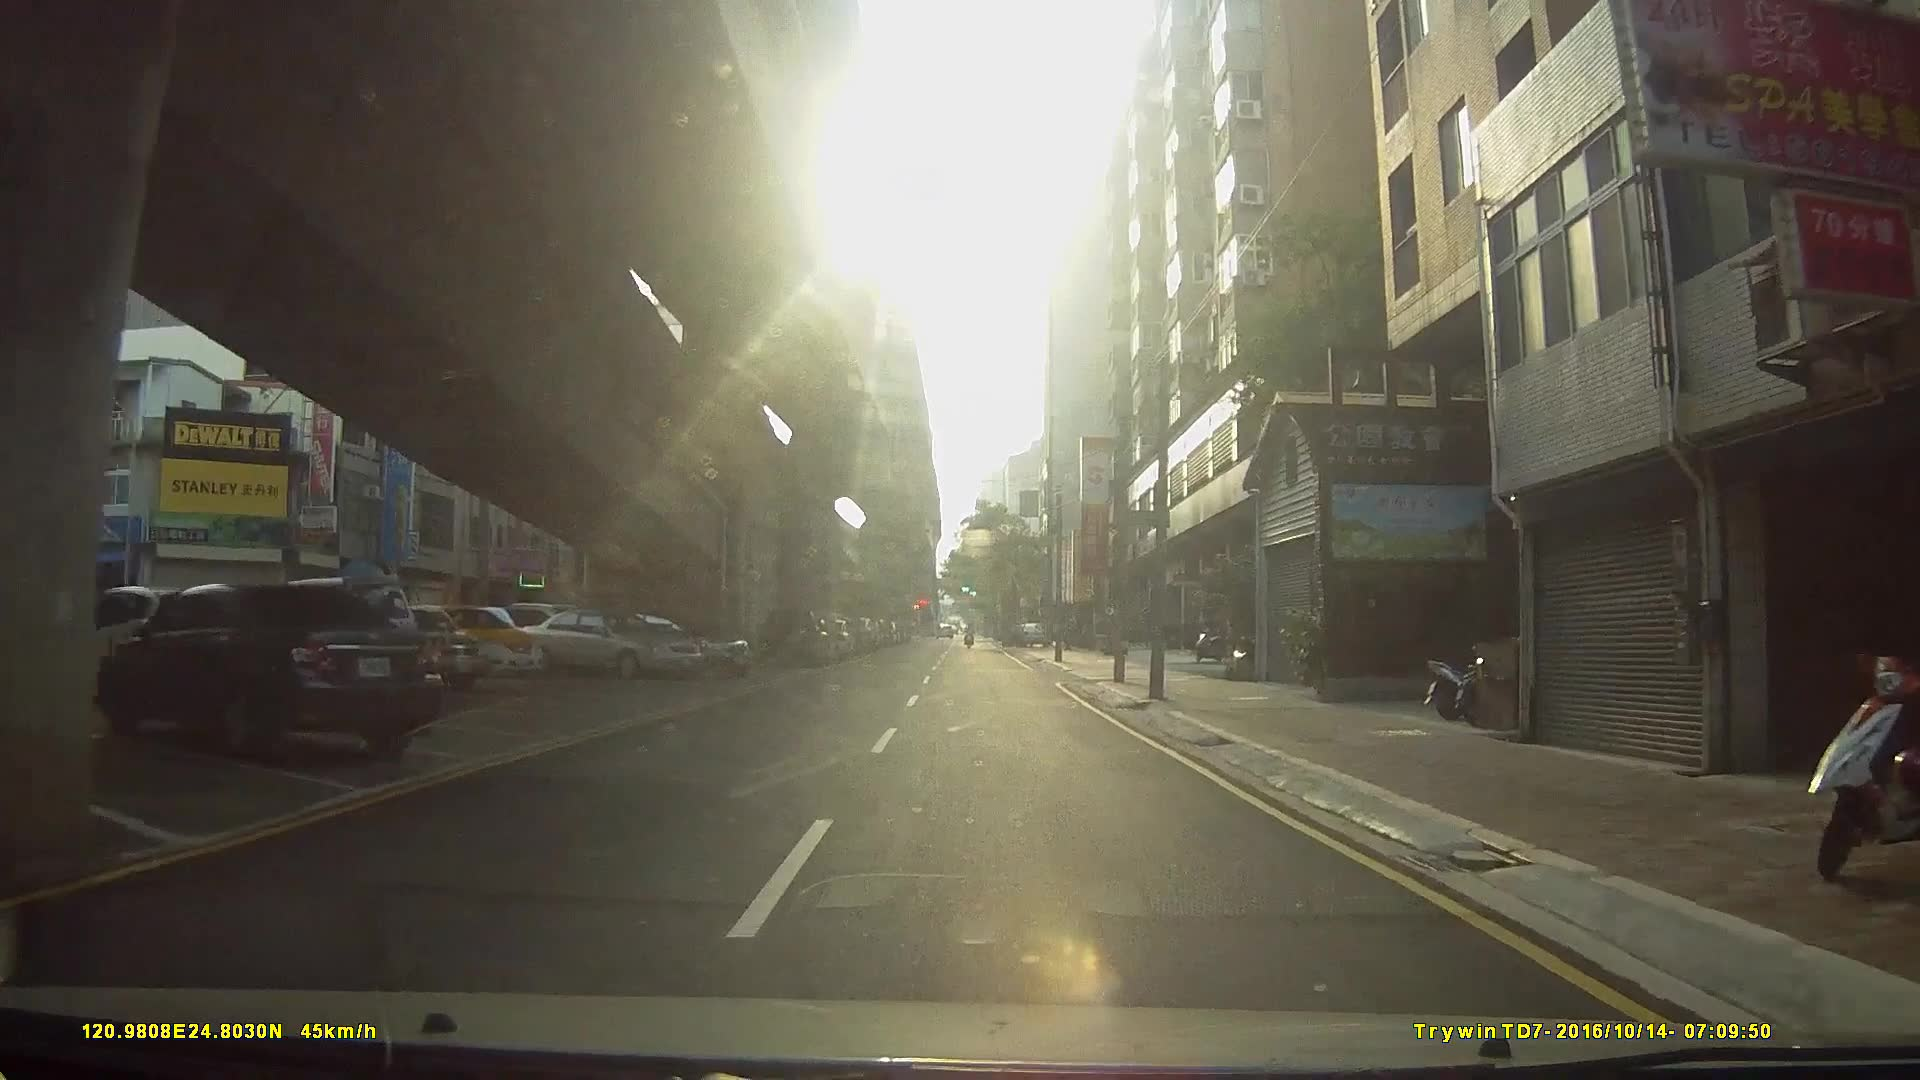vehicle: (96, 578, 439, 761), (319, 601, 483, 691), (510, 603, 700, 676), (578, 607, 752, 679), (404, 600, 543, 675), (756, 600, 832, 665)
